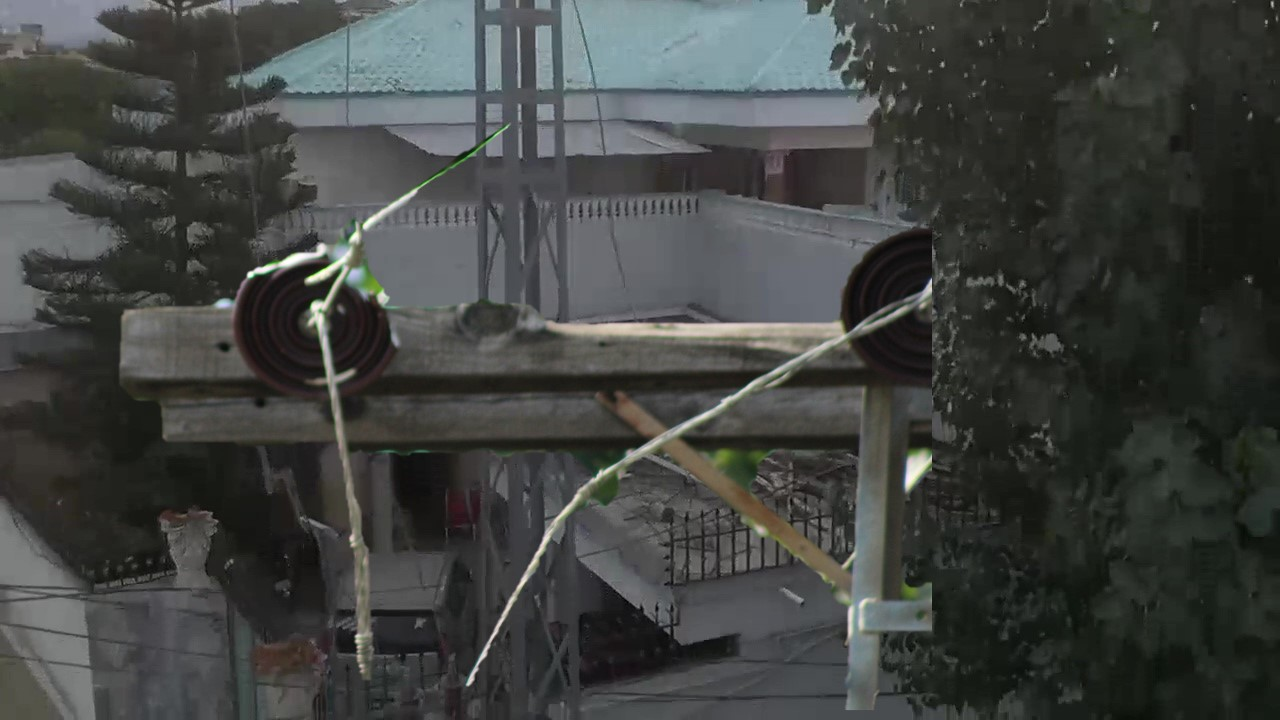defect_disc: (229, 239, 409, 403)
